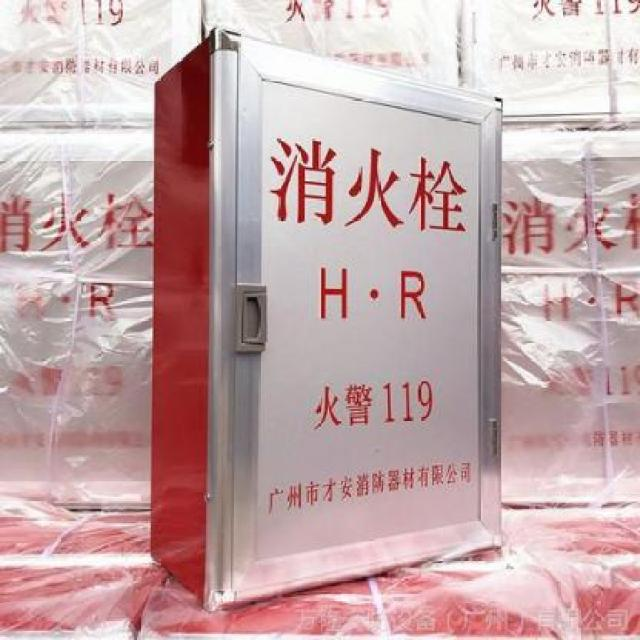firehydrant: (148, 20, 508, 622)
